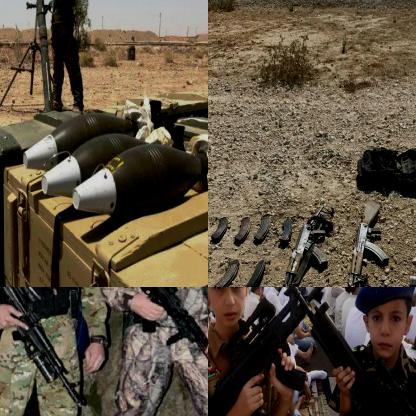rifle: (286, 287, 415, 415), (208, 287, 321, 415), (0, 287, 91, 408), (93, 287, 207, 367), (343, 199, 391, 286), (283, 218, 332, 286)
